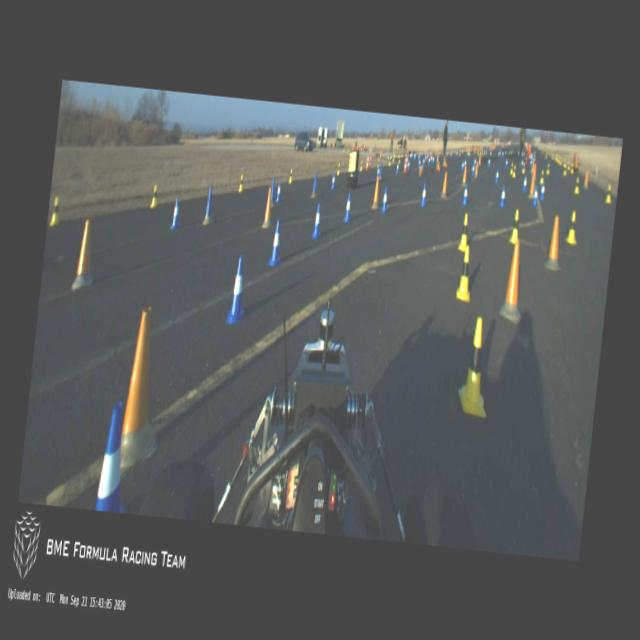blue_cone: (93, 401, 132, 512), (227, 255, 249, 323), (267, 218, 285, 266), (310, 202, 324, 237), (170, 197, 181, 230), (342, 191, 353, 223), (380, 186, 389, 214), (498, 185, 507, 208), (419, 182, 427, 207), (461, 182, 469, 207), (274, 181, 282, 203), (532, 184, 538, 205), (330, 171, 336, 190), (540, 182, 546, 200), (522, 176, 528, 192), (494, 168, 499, 183), (376, 166, 380, 179), (470, 162, 474, 175), (486, 158, 491, 168), (460, 161, 464, 171), (504, 158, 508, 168), (407, 158, 410, 171), (463, 158, 466, 168), (427, 157, 430, 166), (396, 160, 398, 173), (473, 157, 476, 165), (418, 159, 420, 168), (422, 157, 424, 166), (430, 156, 432, 163), (432, 156, 434, 163)
large_orange_cone: (405, 154, 409, 173), (366, 153, 370, 170), (368, 154, 372, 170), (403, 156, 407, 172)
unknown_cone: (118, 304, 170, 472), (498, 239, 530, 325), (70, 218, 100, 290), (542, 214, 566, 272), (261, 185, 275, 228), (202, 184, 216, 226), (371, 176, 382, 210), (269, 175, 277, 208), (440, 170, 449, 198), (310, 171, 318, 198), (528, 172, 536, 198), (461, 165, 468, 186), (473, 160, 479, 178), (583, 170, 589, 188), (532, 162, 538, 179), (442, 156, 448, 168), (435, 160, 440, 172), (418, 164, 422, 177), (530, 160, 534, 173), (478, 154, 482, 166), (436, 150, 439, 162)
yellow_cone: (456, 315, 496, 416), (454, 244, 474, 304), (456, 210, 470, 251), (508, 208, 522, 244), (566, 211, 578, 243), (50, 194, 61, 224), (149, 184, 159, 208), (604, 184, 612, 203), (238, 174, 244, 193), (288, 168, 294, 184), (574, 177, 580, 193), (539, 169, 544, 184), (520, 162, 526, 174), (511, 165, 516, 178), (562, 163, 567, 174), (336, 162, 340, 175), (359, 160, 363, 172), (509, 162, 513, 174), (546, 163, 550, 173), (570, 164, 574, 172), (398, 154, 401, 164), (376, 159, 379, 168), (388, 157, 391, 166), (567, 162, 570, 170), (392, 155, 394, 162)
